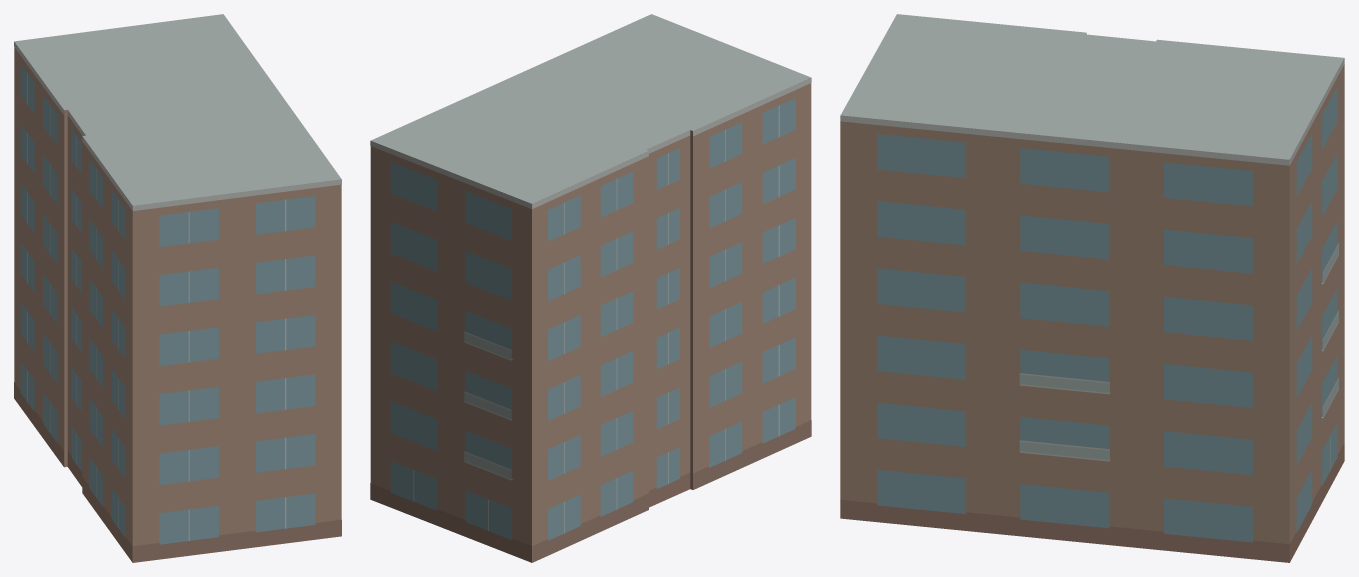
Rendered from survey-upis-32538489.glb.
The picture shows the model from 3 angles, left to right: view 1: azimuth 30°, elevation 25°; view 2: azimuth 150°, elevation 25°; view 3: azimuth 270°, elevation 25°; orthographic projection. The views are drawn at different scales.
Visible parts, largest first — view 1: survey-upis-32538489.tmp; view 2: survey-upis-32538489.tmp; view 3: survey-upis-32538489.tmp.
Part boxes in pixels (x1,y1,x2,y2): survey-upis-32538489.tmp: (14,14,341,562); survey-upis-32538489.tmp: (370,14,811,562); survey-upis-32538489.tmp: (840,14,1344,562).
Size of the model in its own units: 12.81 by 16.5 by 18.71.
